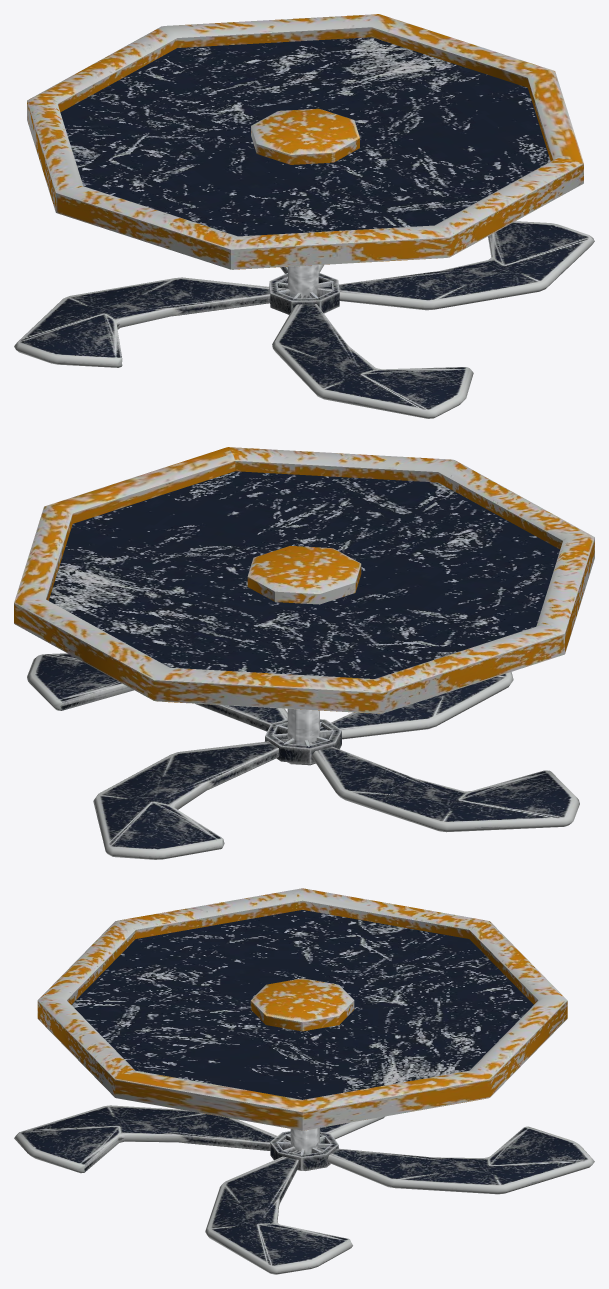
File: floating_platform.glb
The picture shows the model from 3 angles, top to bottom: view 1: azimuth 30°, elevation 25°; view 2: azimuth 150°, elevation 25°; view 3: azimuth 270°, elevation 25°; orthographic projection. The views are drawn at different scales.
Parts seen in each view (by area): view 1: Platform_Material #2_0, Helix_Material #2_0; view 2: Platform_Material #2_0, Helix_Material #2_0; view 3: Platform_Material #2_0, Helix_Material #2_0.
Boxes of the visible parts, x1,y1,x2,y2 form: Platform_Material #2_0: [27, 14, 583, 297]; Helix_Material #2_0: [14, 221, 594, 418]; Platform_Material #2_0: [14, 447, 594, 765]; Helix_Material #2_0: [27, 653, 579, 859]; Platform_Material #2_0: [37, 888, 567, 1170]; Helix_Material #2_0: [14, 1105, 594, 1274].
Size of the model in its own units: 115 by 35.87 by 115.
Materials: 1 (1 with a texture image).
